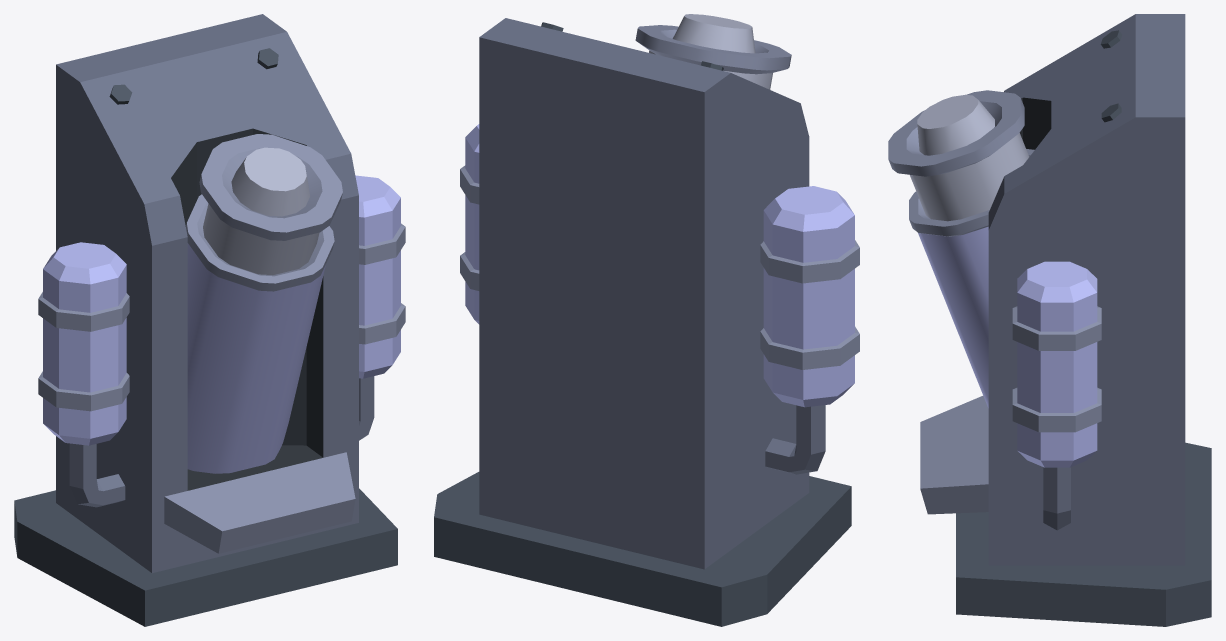
Rendered from OxygenTanks.FBX.
The picture shows the model from 3 angles, left to right: view 1: azimuth 30°, elevation 25°; view 2: azimuth 150°, elevation 25°; view 3: azimuth 270°, elevation 25°; orthographic projection. The views are drawn at different scales.
Parts seen in each view (by area): view 1: OxygenDespensor, OxygenTank; view 2: OxygenDespensor, OxygenTank; view 3: OxygenDespensor, OxygenTank.
Boxes of the visible parts, bbox=[...] form: OxygenDespensor: bbox=[14, 14, 405, 626]; OxygenTank: bbox=[186, 134, 342, 473]; OxygenDespensor: bbox=[434, 18, 859, 626]; OxygenTank: bbox=[635, 14, 791, 89]; OxygenDespensor: bbox=[920, 14, 1211, 626]; OxygenTank: bbox=[888, 90, 1034, 408].
Size of the model in its own units: 7.94 by 10.31 by 6.22.
